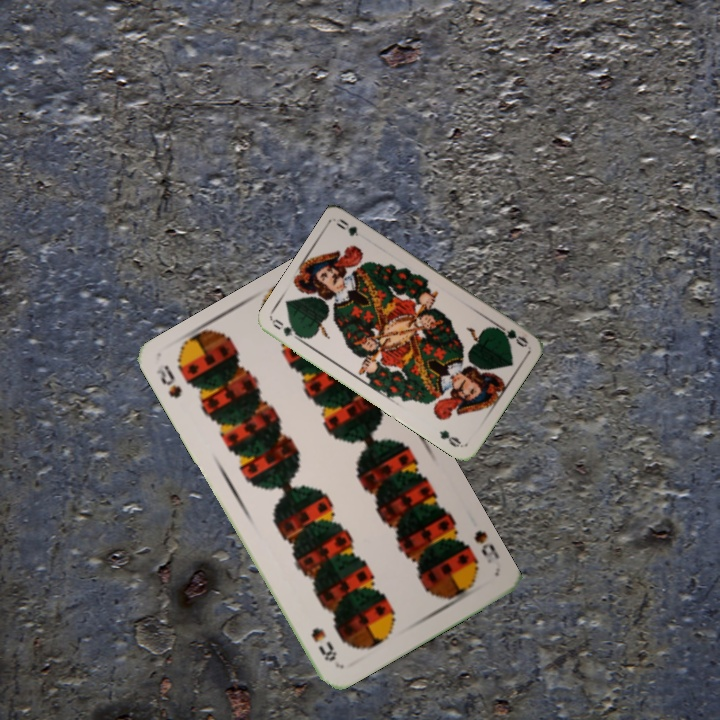GO: (268, 315, 308, 345), (491, 320, 530, 350)
S8: (152, 360, 185, 401), (470, 526, 502, 562)
